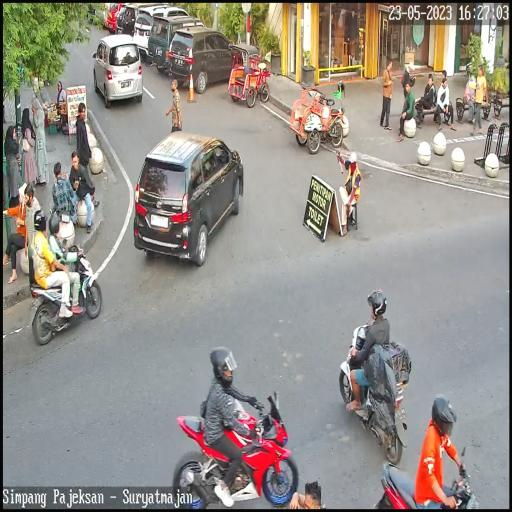mobil: (132, 131, 245, 276), (168, 29, 237, 93), (89, 34, 145, 111), (135, 6, 196, 64), (149, 16, 207, 75)
motor: (173, 387, 294, 512), (337, 314, 412, 462), (30, 252, 103, 348)
